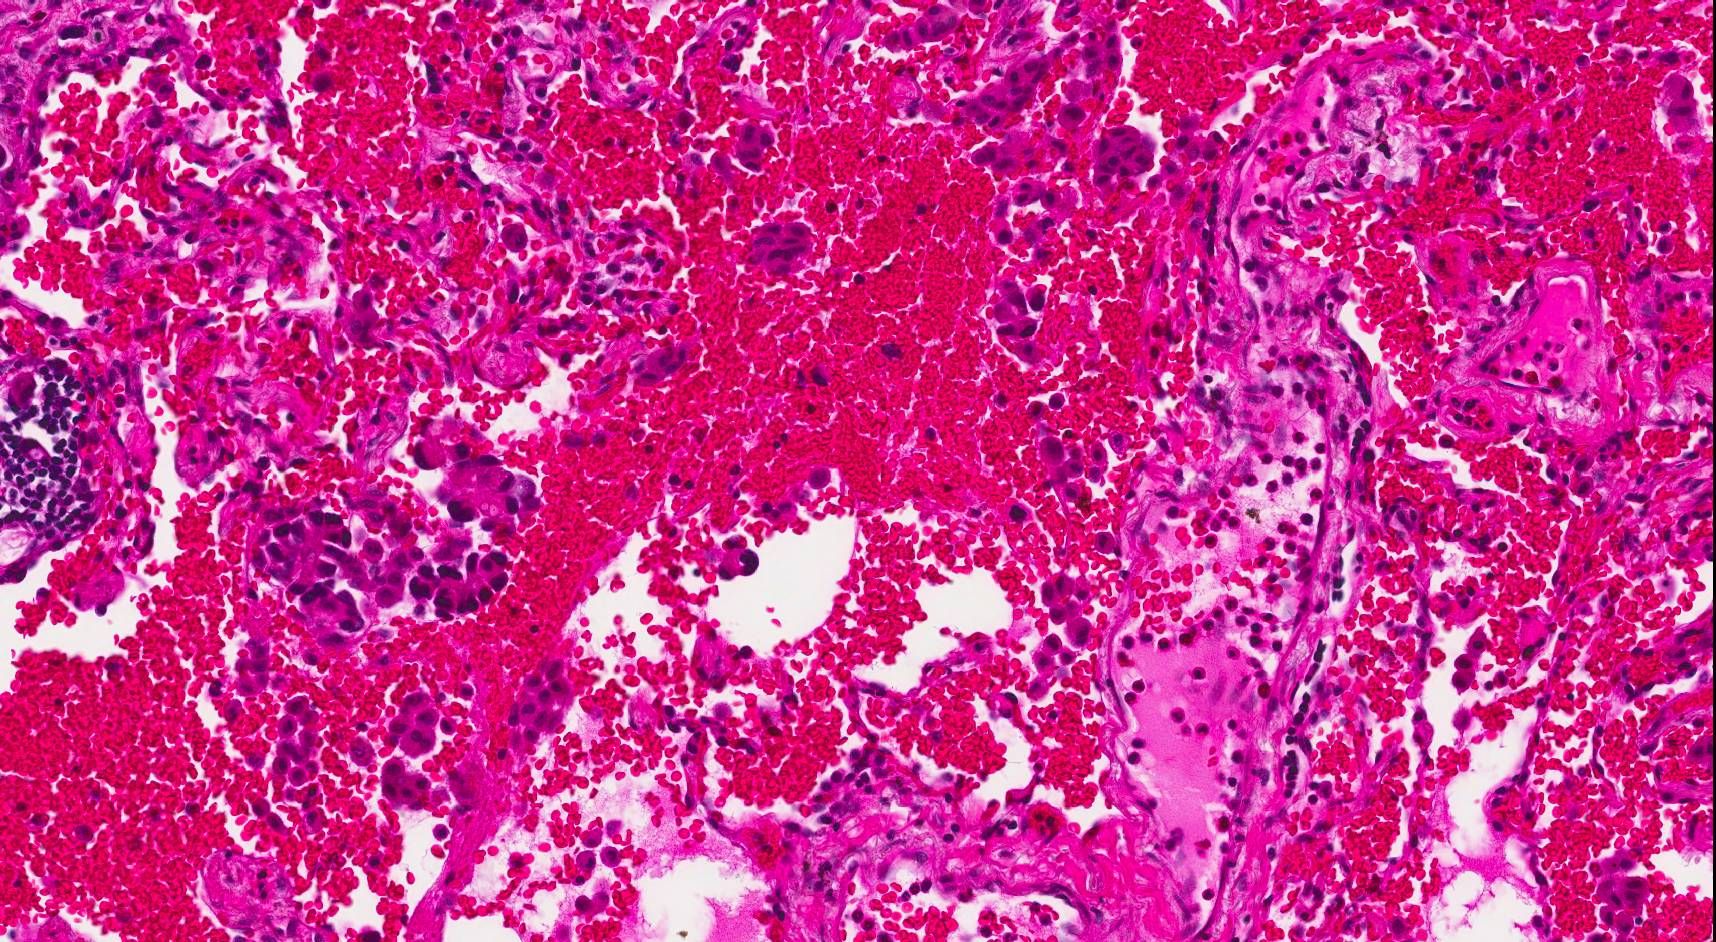stas: (411, 420, 545, 537), (260, 510, 367, 632), (409, 547, 510, 620), (716, 536, 762, 585)
